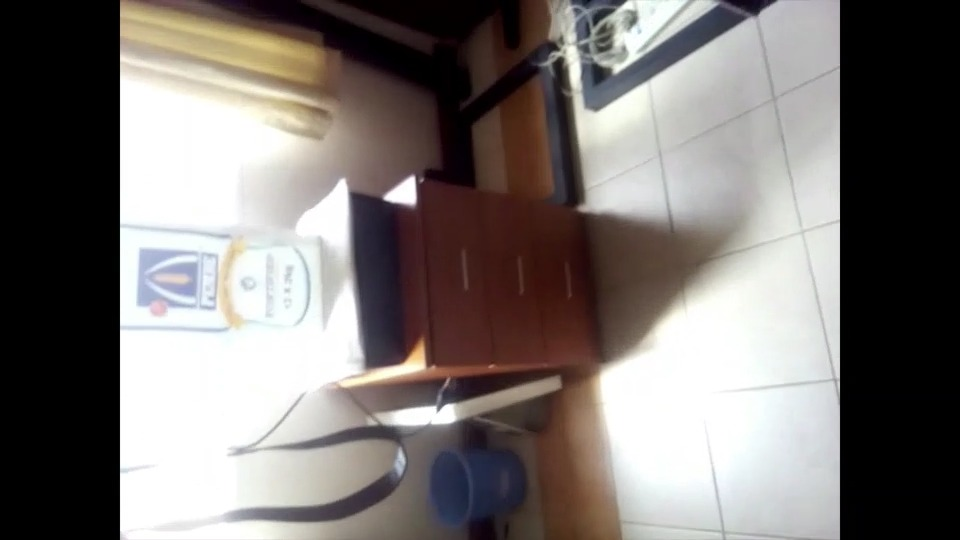wheat_flour_blue_label: (124, 230, 325, 336)
